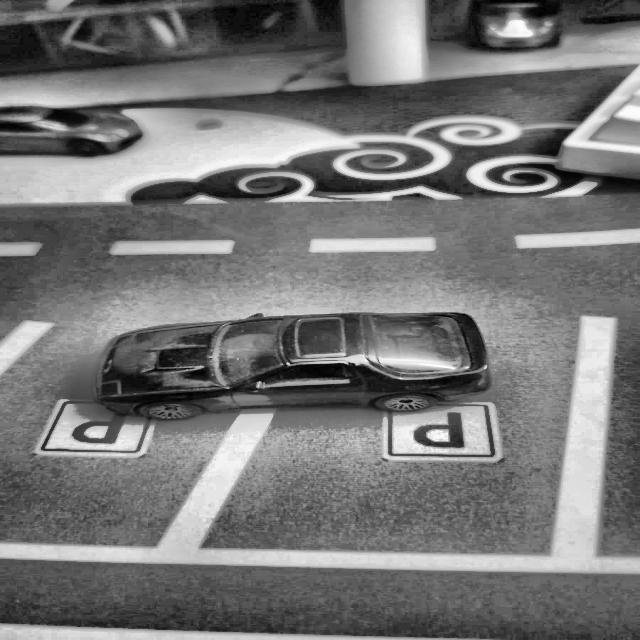car: (90, 311, 492, 421), (0, 103, 145, 157)
